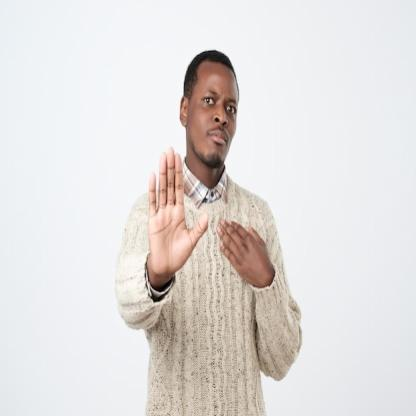stop: (147, 144, 211, 282)
